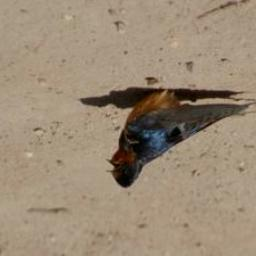Swallow: (106, 92, 256, 190)
